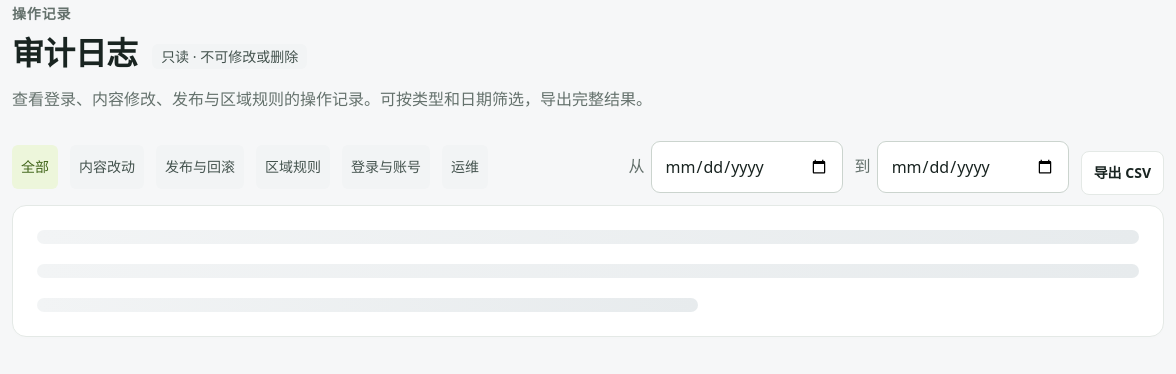
Test case: audit filter requests › ignores an older filter response that arrives after the current filter response
The width and height of the screenshot is (1176, 374).
Click the button "内容改动" at {"x": 107, "y": 167}, box [70,145,144,189]
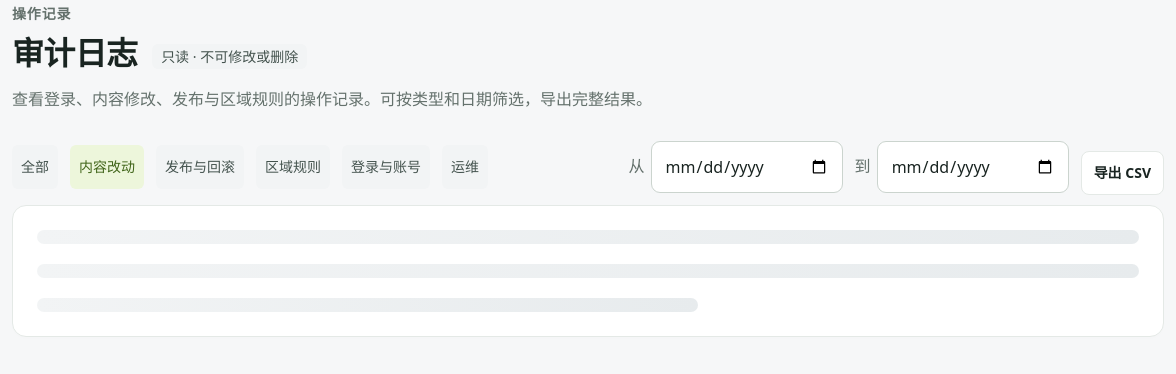
Click the button "登录与账号" at {"x": 386, "y": 167}, box [342,145,430,189]
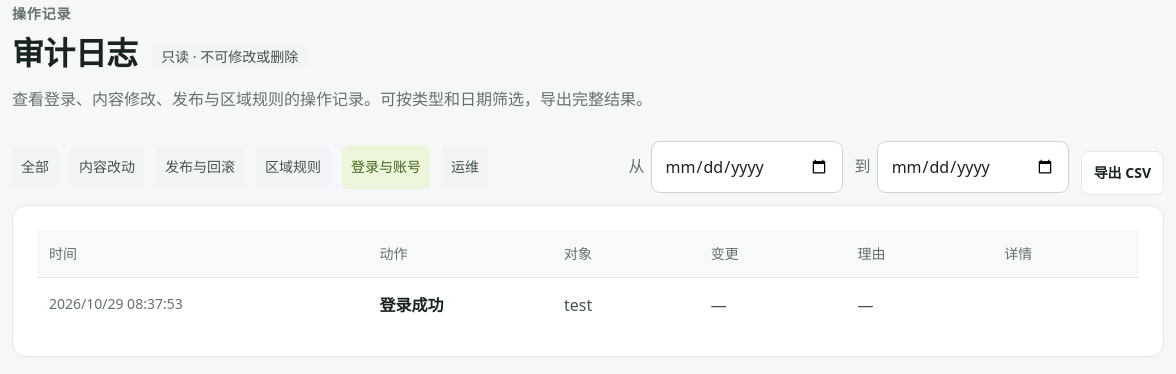
Result: the text "登录成功" is shown at [380,294,444,316]
